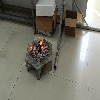fire: (39, 34, 43, 49), (30, 44, 32, 51)
